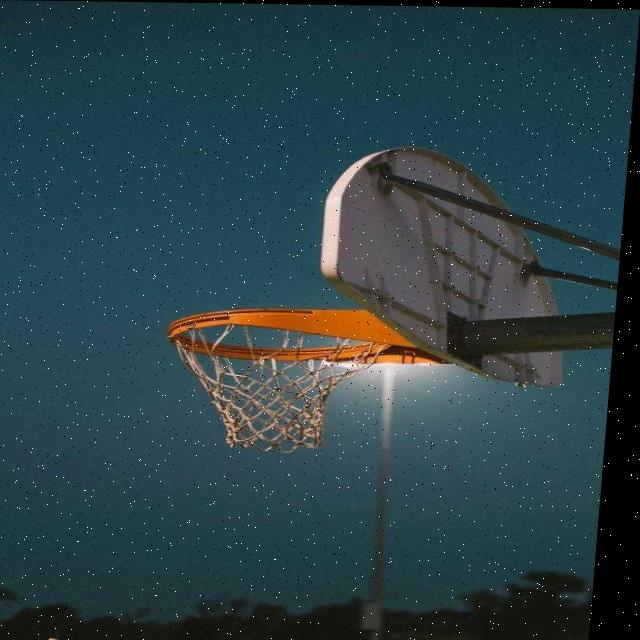hoop: (146, 300, 454, 484)
